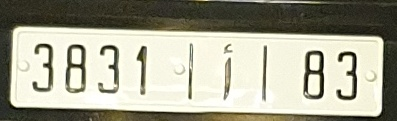1: (135, 43, 149, 96)
3: (335, 50, 359, 101), (31, 42, 54, 93), (97, 44, 120, 95)
8: (301, 49, 326, 101), (65, 42, 88, 94)
a: (220, 42, 234, 101)
